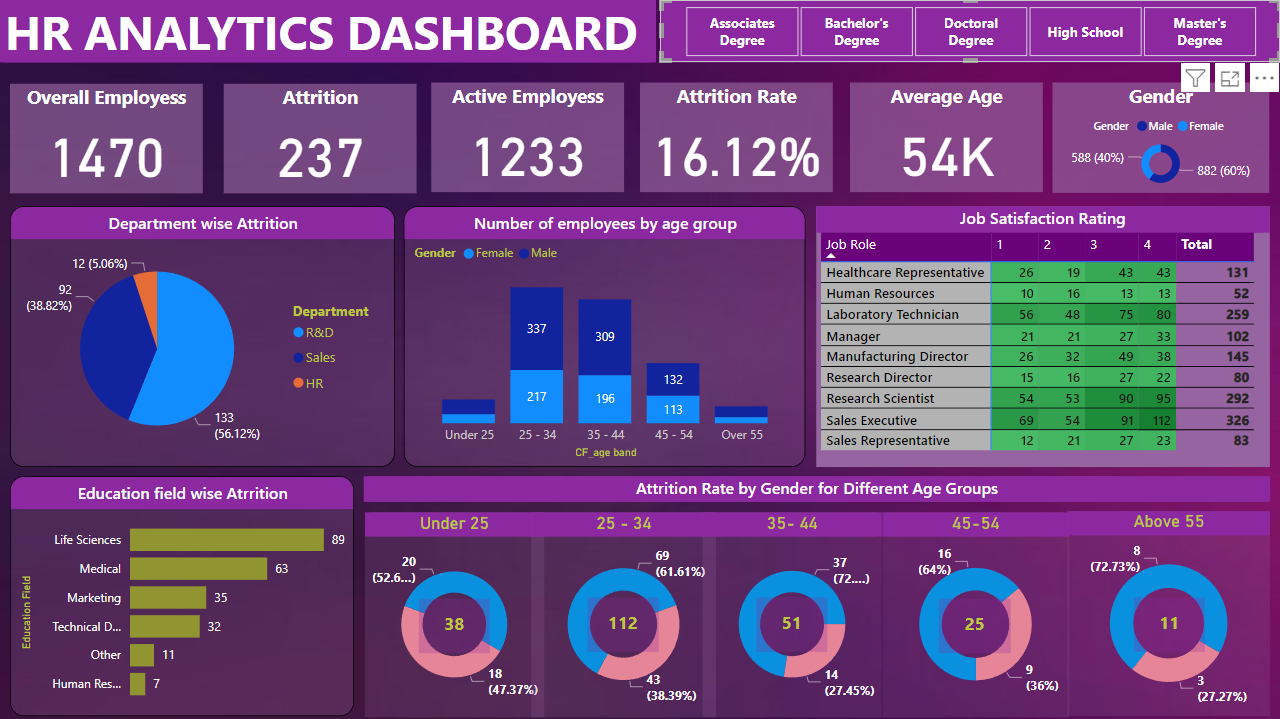

What the dashboard file says about the page in this screenshot:
{"tool":"powerbi","page":{"name":"HR Dashboard","canvas":[1280,720],"ordinal":0},"visuals":[{"type":"card","title":"Overall Employess","fields":{"Values":["Sum(HR data.Employee Count)"]},"box":[9.7,83.2,193,109.8],"z":0},{"type":"pieChart","title":"Department wise Attrition","fields":{"Category":["HR data.Department"],"Y":["Sum(HR data.Attrition count)"]},"box":[9.7,206.3,384.9,260.6],"z":4000},{"type":"columnChart","title":"Number of employees by age group","fields":{"Category":["HR data.CF_age band"],"Y":["Sum(HR data.Employee Count)"],"Series":["HR data.Gender"]},"box":[404.2,206.3,401.7,260.6],"z":5000},{"type":"pivotTable","title":"Job Satisfaction Rating","fields":{"Rows":["HR data.Job Role"],"Columns":["HR data.Job Satisfaction"],"Values":["Sum(HR data.Employee Count)"]},"box":[816.7,206.7,453.3,260.8],"z":6000},{"type":"clusteredBarChart","title":"Education field wise Atrrition","fields":{"Category":["HR data.Education Field"],"Y":["Sum(HR data.Attrition count)"]},"box":[9.7,476.5,343.8,240.1],"z":7000},{"type":"donutChart","title":"Under 25","fields":{"Category":["HR data.Gender"],"Y":["Sum(HR data.Attrition count)"],"Series":["HR data.CF_age band"]},"box":[364.5,512,179,205],"z":8000},{"type":"textbox","title":"Attrition Rate by Gender for Different Age Groups","box":[363.5,476.1,906.5,25.7],"z":9000},{"type":"donutChart","title":"25 - 34","fields":{"Category":["HR data.Gender"],"Y":["Sum(HR data.Attrition count)"],"Series":["HR data.CF_age band"]},"box":[531.5,512,185,204.5],"z":10000},{"type":"donutChart","title":"35- 44","fields":{"Category":["HR data.Gender"],"Y":["Sum(HR data.Attrition count)"],"Series":["HR data.CF_age band"]},"box":[702.6,512,179.5,204.5],"z":11000},{"type":"donutChart","title":"45-54","fields":{"Category":["HR data.Gender"],"Y":["Sum(HR data.Attrition count)"],"Series":["HR data.CF_age band"]},"box":[882.1,512,186.4,204.5],"z":12000},{"type":"donutChart","title":"Above 55","fields":{"Category":["HR data.Gender"],"Y":["Sum(HR data.Attrition count)"],"Series":["HR data.CF_age band"]},"box":[1067.7,511.5,202.7,205.1],"z":13000},{"type":"card","fields":{"Values":["Sum(HR data.Attrition count)"]},"box":[418.6,598.4,71.2,54.3],"z":14000},{"type":"card","fields":{"Values":["Sum(HR data.Attrition count)"]},"box":[587.5,597.2,71.2,54.3],"z":15000},{"type":"card","fields":{"Values":["Sum(HR data.Attrition count)"]},"box":[756.4,597.2,71.2,54.3],"z":16000},{"type":"card","fields":{"Values":["Sum(HR data.Attrition count)"]},"box":[938.6,598.4,72.4,54.3],"z":17000},{"type":"card","fields":{"Values":["Sum(HR data.Attrition count)"]},"box":[1134.1,597.2,71.2,54.3],"z":18000},{"type":"textbox","title":"HR ANALYTICS DASHBOARD","box":[0,0,655.7,62.7],"z":19000},{"type":"slicer","fields":{"Values":["HR data.Education"]},"box":[660,0,620,62.7],"z":20000},{"type":"card","title":"Attrition","fields":{"Values":["Sum(HR data.Attrition count)"]},"box":[223.2,83.2,193,109.8],"z":21000},{"type":"card","title":"Active Employess","fields":{"Values":["HR data.Active Employees"]},"box":[430.7,82,193,109.8],"z":22000},{"type":"card","title":"Attrition Rate","fields":{"Values":["HR data.Attrition Rate"]},"box":[639.4,82,193,109.8],"z":22001},{"type":"card","title":"Average Age","fields":{"Values":["Sum(HR data.Age)"]},"box":[850.5,82,193,109.8],"z":22002},{"type":"donutChart","title":"Gender","fields":{"Category":["HR data.Gender"],"Y":["Sum(HR data.Employee Count)"]},"box":[1052.6,82,216.6,110.2],"z":22003}]}

Visuals, with their boxes in screenshot pixels (x1, y1, x2, y2), scaled from the page's 1280x720 canvas onto the 1280x719 screenshot:
"Overall Employess" card: x1=10 y1=83 x2=203 y2=193
"Department wise Attrition" pieChart: x1=10 y1=206 x2=395 y2=466
"Number of employees by age group" columnChart: x1=404 y1=206 x2=806 y2=466
"Job Satisfaction Rating" pivotTable: x1=817 y1=206 x2=1270 y2=467
"Education field wise Atrrition" clusteredBarChart: x1=10 y1=476 x2=354 y2=716
"Under 25" donutChart: x1=364 y1=511 x2=544 y2=716
"Attrition Rate by Gender for Different Age Groups" textbox: x1=364 y1=475 x2=1270 y2=501
"25 - 34" donutChart: x1=532 y1=511 x2=716 y2=716
"35- 44" donutChart: x1=703 y1=511 x2=882 y2=716
"45-54" donutChart: x1=882 y1=511 x2=1068 y2=716
"Above 55" donutChart: x1=1068 y1=511 x2=1270 y2=716
card - Sum(HR data.Attrition count): x1=419 y1=598 x2=490 y2=652
card - Sum(HR data.Attrition count): x1=588 y1=596 x2=659 y2=651
card - Sum(HR data.Attrition count): x1=756 y1=596 x2=828 y2=651
card - Sum(HR data.Attrition count): x1=939 y1=598 x2=1011 y2=652
card - Sum(HR data.Attrition count): x1=1134 y1=596 x2=1205 y2=651
"HR ANALYTICS DASHBOARD" textbox: x1=0 y1=0 x2=656 y2=63
slicer - HR data.Education: x1=660 y1=0 x2=1279 y2=63
"Attrition" card: x1=223 y1=83 x2=416 y2=193
"Active Employess" card: x1=431 y1=82 x2=624 y2=192
"Attrition Rate" card: x1=639 y1=82 x2=832 y2=192
"Average Age" card: x1=850 y1=82 x2=1044 y2=192
"Gender" donutChart: x1=1053 y1=82 x2=1269 y2=192
